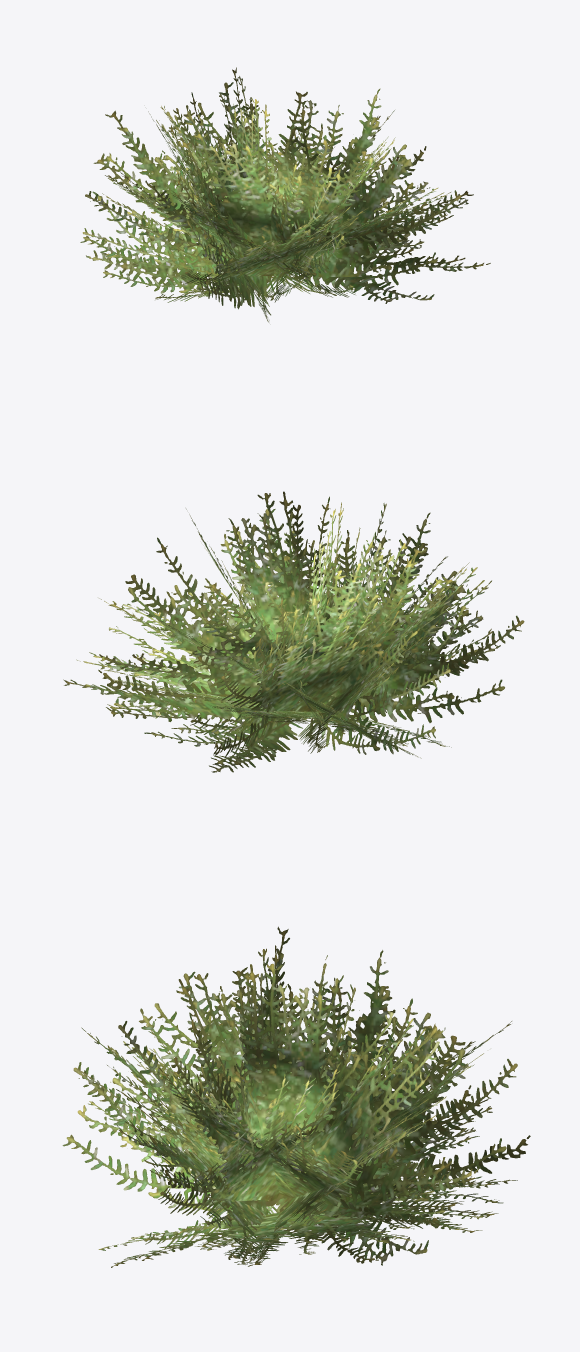
Rendered from shrb_arid_green_a2_l0.fbx.
3 views of the same model, one above another, from view 1: azimuth 30°, elevation 25°; view 2: azimuth 150°, elevation 25°; view 3: azimuth 270°, elevation 25° (orthographic). The views are drawn at different scales.
Visible parts, largest first — view 1: mesh_node; view 2: mesh_node; view 3: mesh_node.
Part boxes in pixels (left/top/right/bottom): mesh_node: left=80, top=67, right=490, bottom=322; mesh_node: left=63, top=491, right=524, bottom=772; mesh_node: left=62, top=926, right=530, bottom=1267.
Bounding box in the file's own units: 3.56 × 1.95 × 3.09.
Materials: 3 (3 with a texture image).
